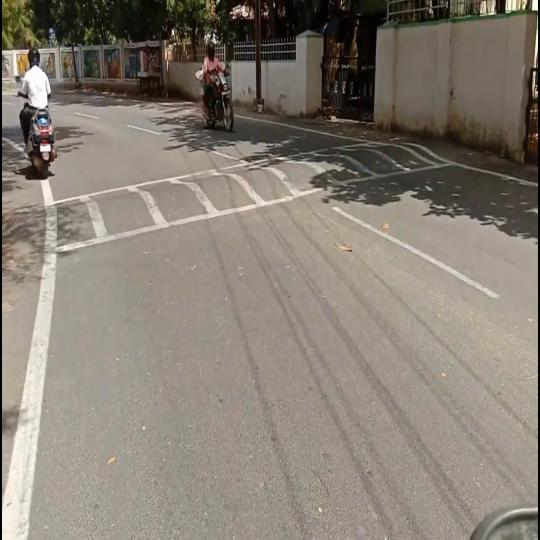Speed Bump: (58, 144, 441, 252), (8, 202, 58, 266)
